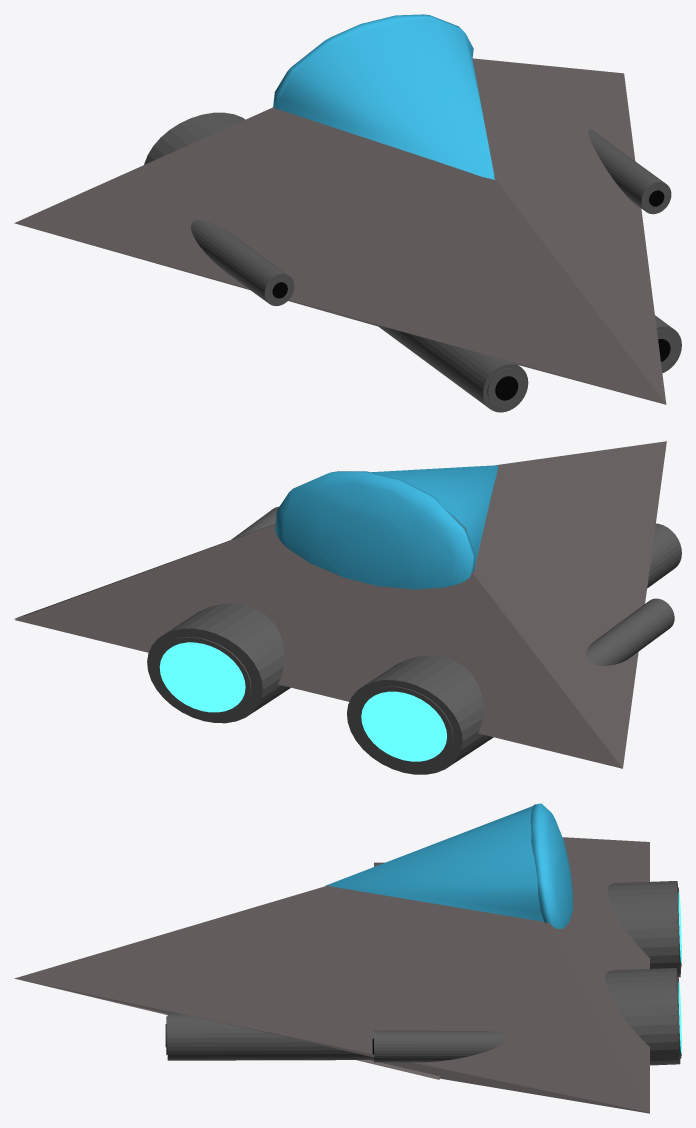
Rendered from nave plata.fbx.
3 renders of one model, top to bottom at view 1: azimuth 30°, elevation 25°; view 2: azimuth 150°, elevation 25°; view 3: azimuth 270°, elevation 25°, orthographic. The views are drawn at different scales.
Visible parts, largest first — view 1: Plane.001, Cone, Cylinder.005, Cylinder.002, Cylinder.003, Cylinder, Mball, Cylinder.007; view 2: Plane.001, Mball, Cylinder.001, Cylinder, Cylinder.012, Cylinder.013, Cone, Cylinder.002, Cylinder.014, Cylinder.015, Cylinder.005; view 3: Plane.001, Cone, Cylinder.004, Cylinder.001, Cylinder, Mball, Cylinder.003.
Boxes of the visible parts, x1=… form: Plane.001: x1=14, y1=58, x2=666, y2=404; Cone: x1=275, y1=21, x2=494, y2=179; Cylinder.005: x1=376, y1=325, x2=528, y2=412; Cylinder.002: x1=191, y1=220, x2=294, y2=306; Cylinder.003: x1=588, y1=129, x2=671, y2=214; Cylinder: x1=144, y1=112, x2=245, y2=164; Mball: x1=273, y1=14, x2=473, y2=109; Cylinder.007: x1=487, y1=368, x2=524, y2=407; Plane.001: x1=14, y1=441, x2=666, y2=768; Mball: x1=275, y1=471, x2=475, y2=589; Cylinder.001: x1=147, y1=603, x2=290, y2=723; Cylinder: x1=347, y1=655, x2=493, y2=774; Cylinder.012: x1=159, y1=642, x2=245, y2=712; Cylinder.013: x1=361, y1=691, x2=446, y2=761; Cone: x1=371, y1=465, x2=498, y2=571; Cylinder.002: x1=586, y1=598, x2=674, y2=665; Cylinder.014: x1=153, y1=637, x2=251, y2=716; Cylinder.015: x1=356, y1=686, x2=453, y2=765; Cylinder.005: x1=647, y1=523, x2=681, y2=588; Plane.001: x1=14, y1=837, x2=649, y2=1113; Cone: x1=325, y1=806, x2=544, y2=921; Cylinder.004: x1=167, y1=1013, x2=373, y2=1060; Cylinder.001: x1=605, y1=968, x2=680, y2=1065; Cylinder: x1=607, y1=881, x2=680, y2=977; Mball: x1=530, y1=803, x2=572, y2=928; Cylinder.003: x1=374, y1=1030, x2=506, y2=1062.
Size of the model in its own units: 6.01 by 2.68 by 6.24.
